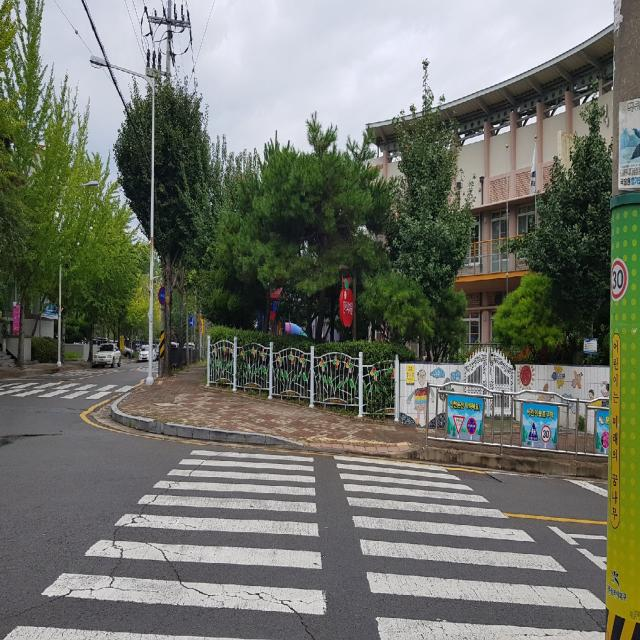횡단보도: (2, 448, 606, 640), (1, 380, 121, 397)
